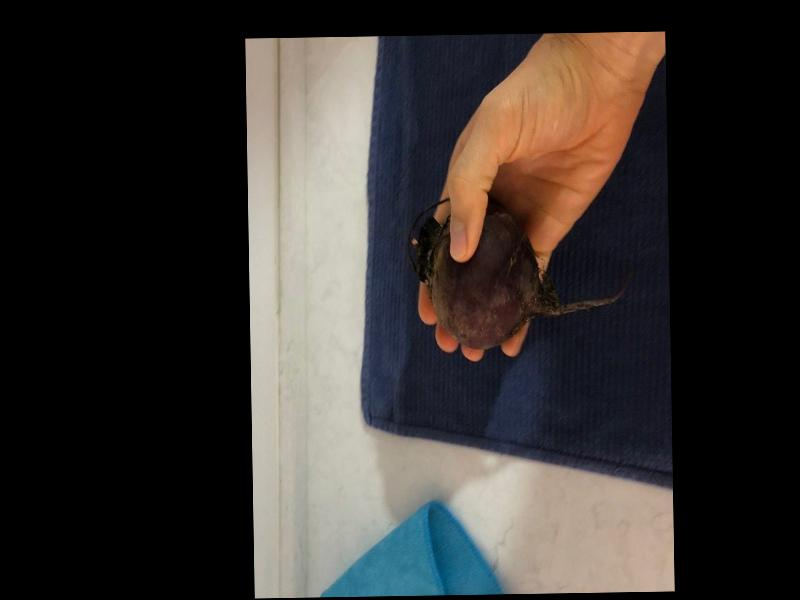Beet: (408, 193, 626, 349)
